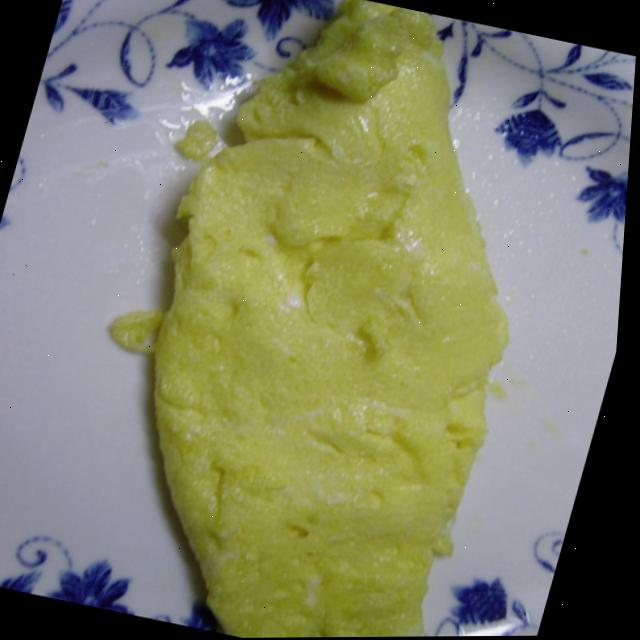鸡蛋料理: (74, 0, 593, 639)
